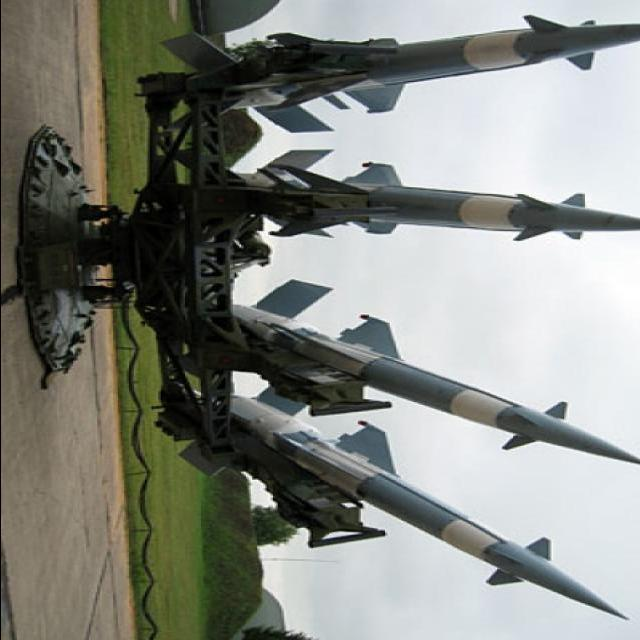missile: (225, 394, 631, 623), (221, 275, 640, 460), (204, 154, 639, 251), (200, 18, 640, 111)
